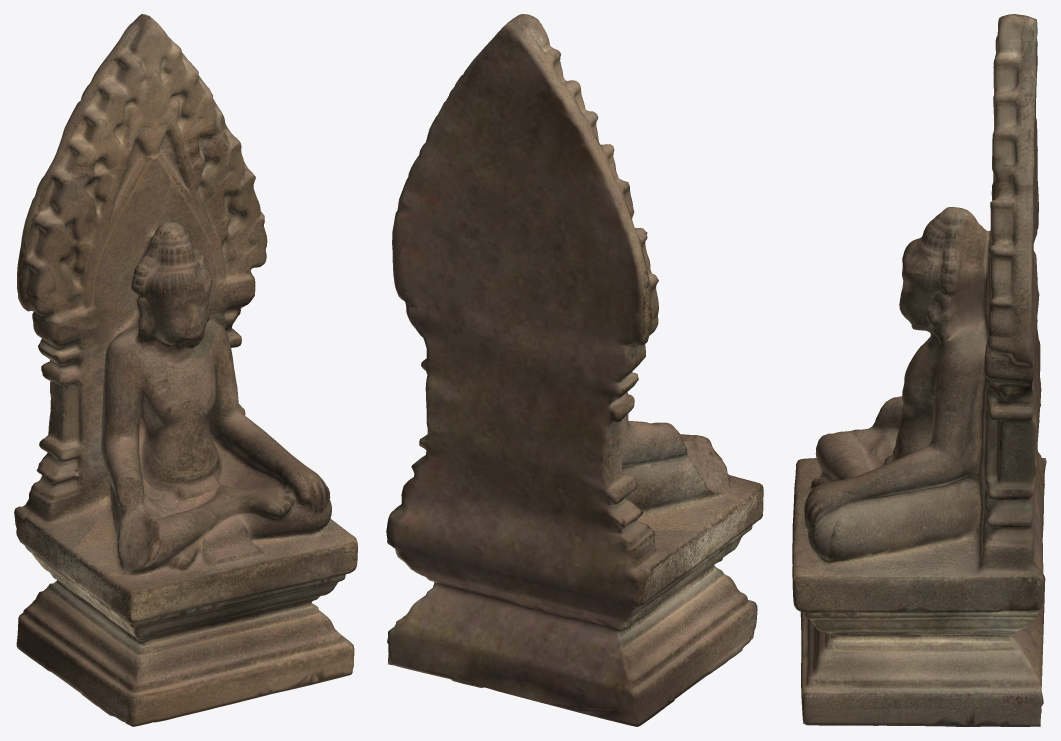
File: 18_thanphuonghuong_kubera_final.glb
3 views of the same model, side by side, from view 1: azimuth 30°, elevation 25°; view 2: azimuth 150°, elevation 25°; view 3: azimuth 270°, elevation 25° (orthographic). The views are drawn at different scales.
Bounding box in the file's own units: 0.3629 × 0.9006 × 0.3165.
Materials: 1 (1 with a texture image).
